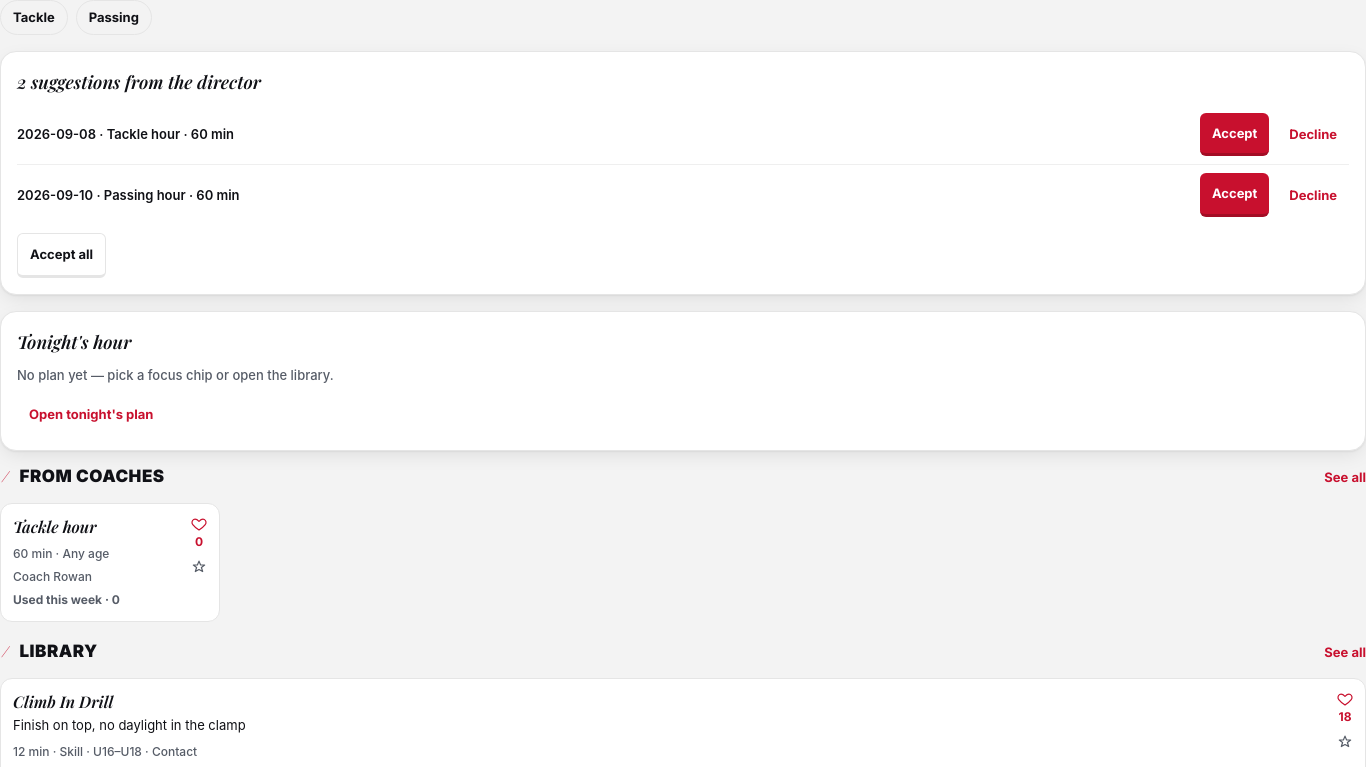
it: the director's suggestions on the shelf › lists them with the date and the hour, and Accept all decides every one then reloads
The width and height of the screenshot is (1366, 767).
Expected: the element with test id "director-suggestions" shows "2 suggestions from the director", [17,70,261,94]
Expected: the element with test id "director-suggestions" shows "2026-09-08 · Tackle hour · 60 min", [0,51,1365,295]
Click the button "Accept all" at [62, 256], box [17,233,106,278]
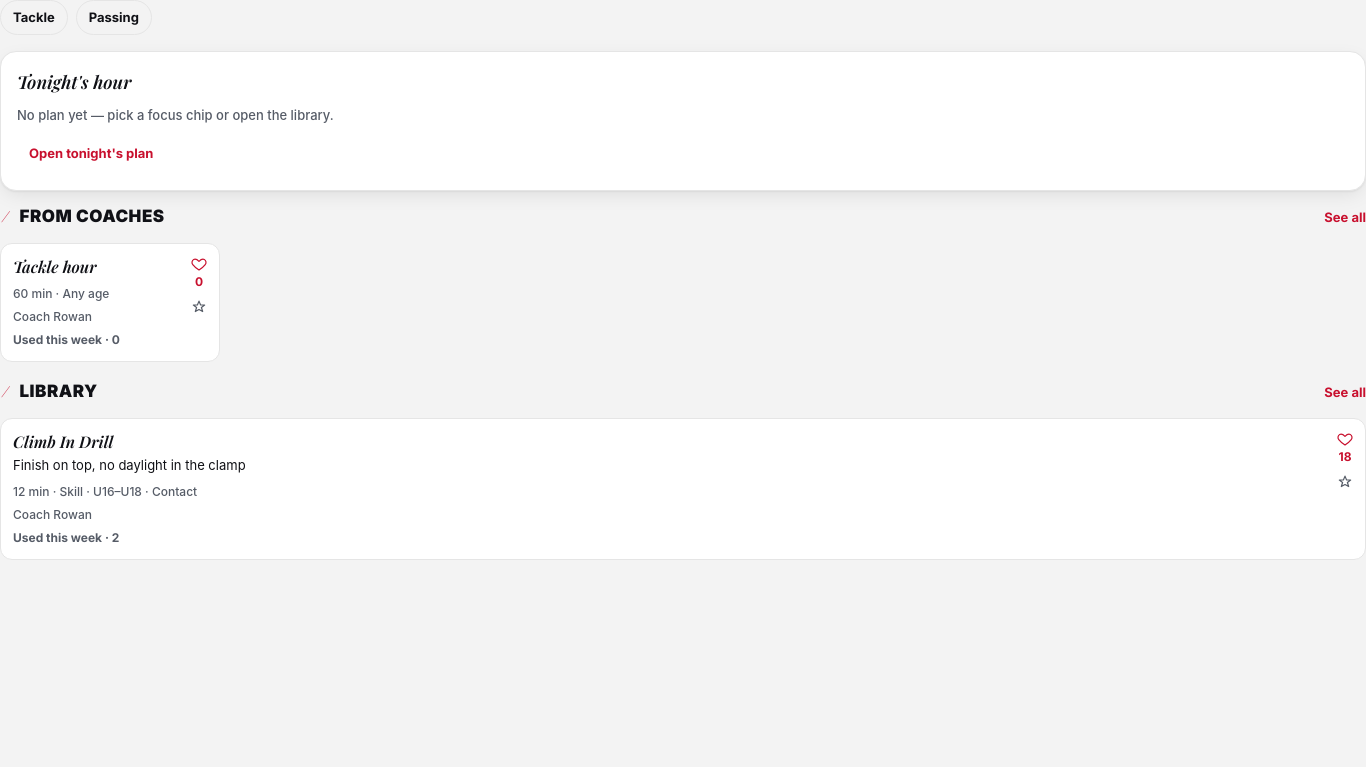
Expected: the element with test id "director-suggestions" is gone
